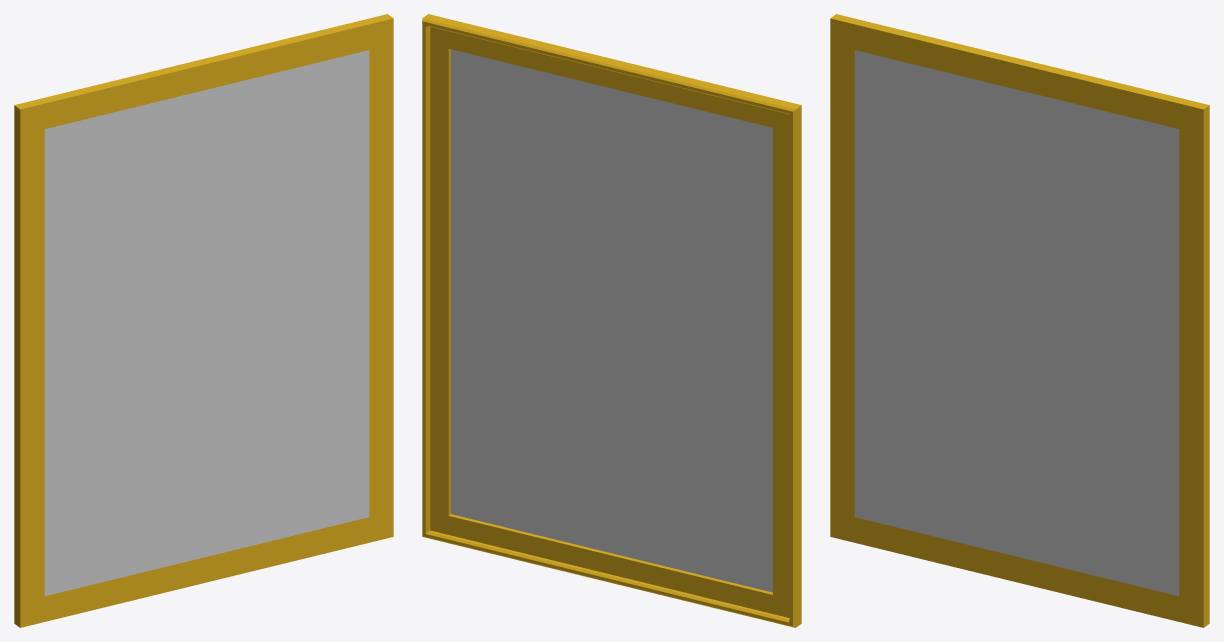
Rendered from Painting_30x40.fbx.
3 renders of one model, left to right at view 1: azimuth 30°, elevation 25°; view 2: azimuth 150°, elevation 25°; view 3: azimuth 330°, elevation 25°, orthographic.
Visible parts, largest first — view 1: Painting_30x40; view 2: Painting_30x40; view 3: Painting_30x40.
Part boxes in pixels (bbox=[...]): Painting_30x40: bbox=[14, 14, 393, 627]; Painting_30x40: bbox=[422, 14, 801, 627]; Painting_30x40: bbox=[830, 14, 1209, 627].
Bounding box in the file's own units: 76.2 × 101 × 2.5.
